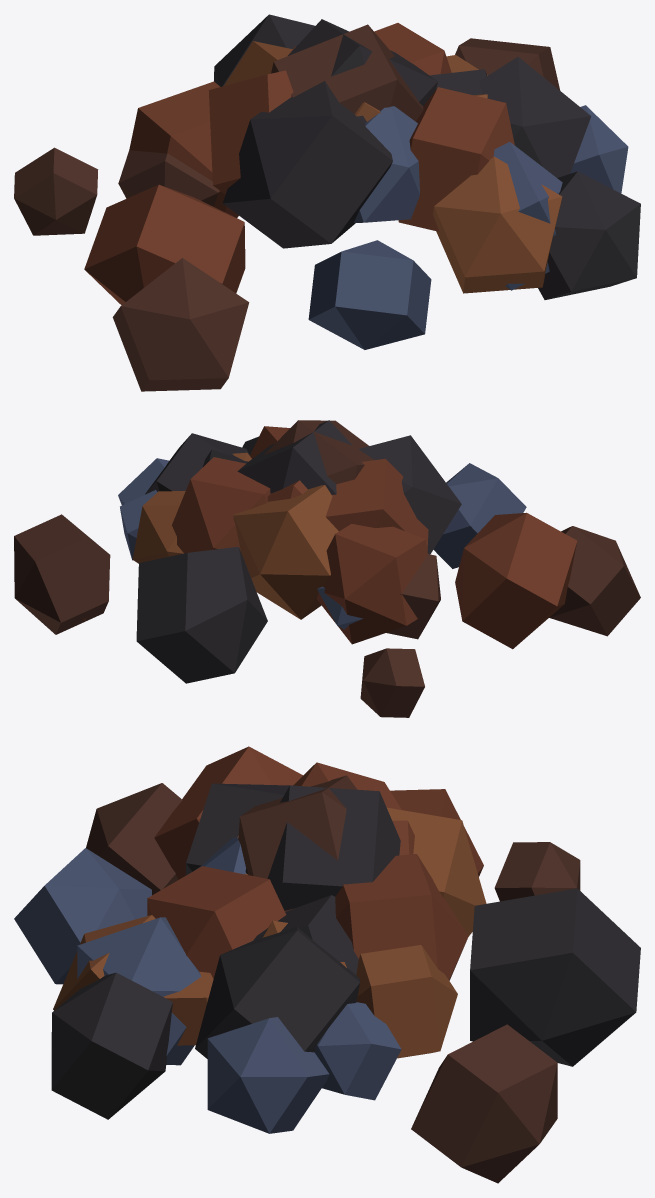
The model's file is soegol_ore_pile.glb.
The picture shows the model from 3 angles, top to bottom: view 1: azimuth 30°, elevation 25°; view 2: azimuth 150°, elevation 25°; view 3: azimuth 270°, elevation 25°; orthographic projection. The views are drawn at different scales.
Visible parts, largest first — view 1: soegol_ore_pile; view 2: soegol_ore_pile; view 3: soegol_ore_pile.
Part boxes in pixels (x1,y1,x2,y2): soegol_ore_pile: (14, 14, 640, 391); soegol_ore_pile: (14, 420, 640, 717); soegol_ore_pile: (14, 746, 640, 1183).
Bounding box in the file's own units: 1.88 × 0.778 × 1.59.
